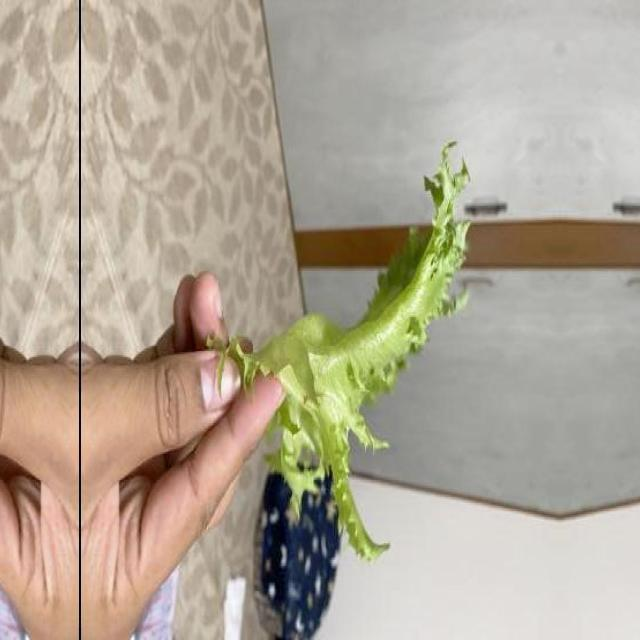healthy: (204, 133, 480, 554)
